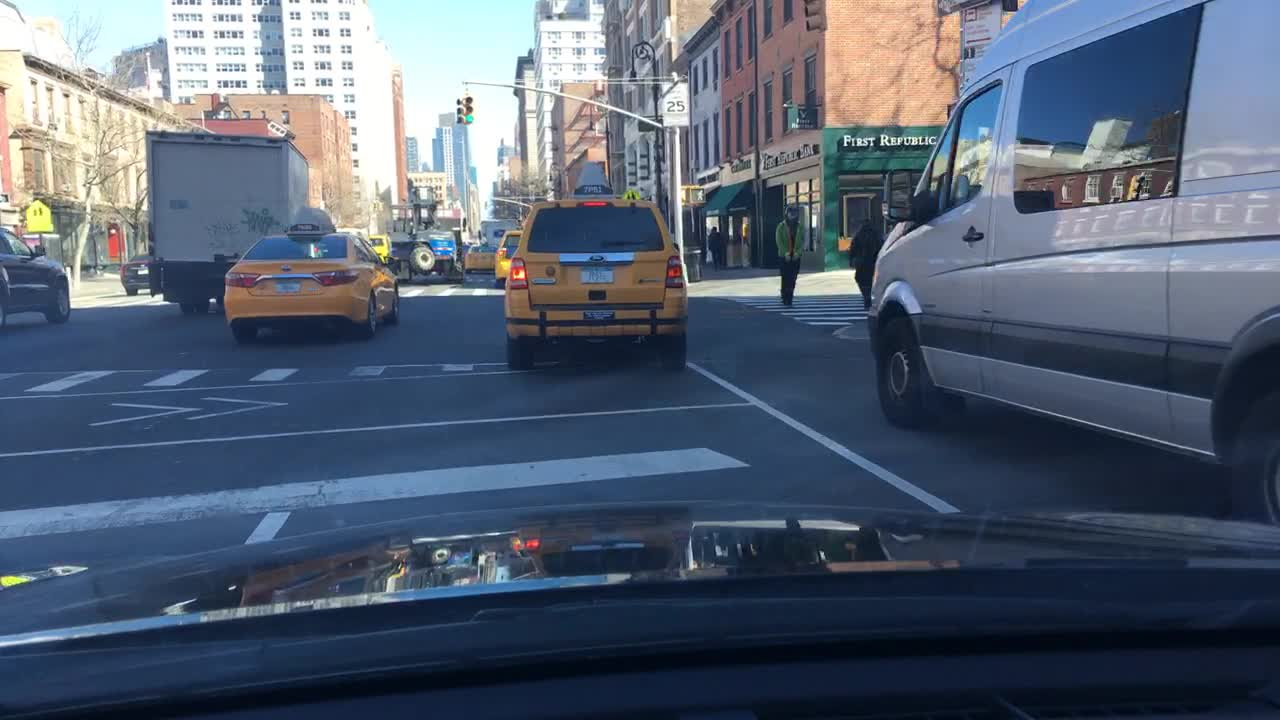car: (869, 2, 1278, 526), (501, 160, 688, 371), (223, 207, 398, 335), (0, 225, 71, 321), (495, 229, 521, 288), (121, 253, 149, 300), (466, 243, 495, 272), (0, 263, 11, 314), (366, 234, 388, 258)
person: (849, 217, 880, 308), (776, 205, 801, 304), (706, 227, 723, 267)
traffic light: (681, 185, 703, 204), (464, 97, 474, 124), (454, 98, 464, 123)
traffic sign: (663, 81, 690, 127), (937, 0, 990, 18), (26, 199, 51, 232), (623, 190, 637, 202)
truck: (147, 127, 309, 311), (386, 184, 465, 281), (481, 222, 516, 247)
